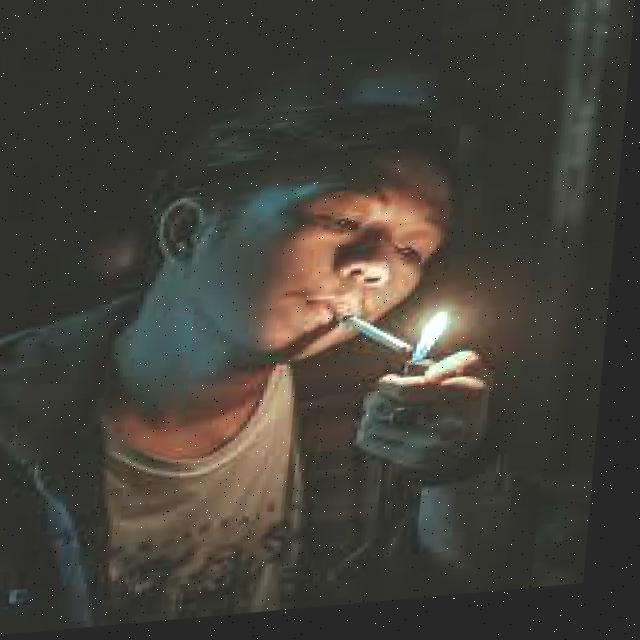Fire: (399, 312, 469, 370)
